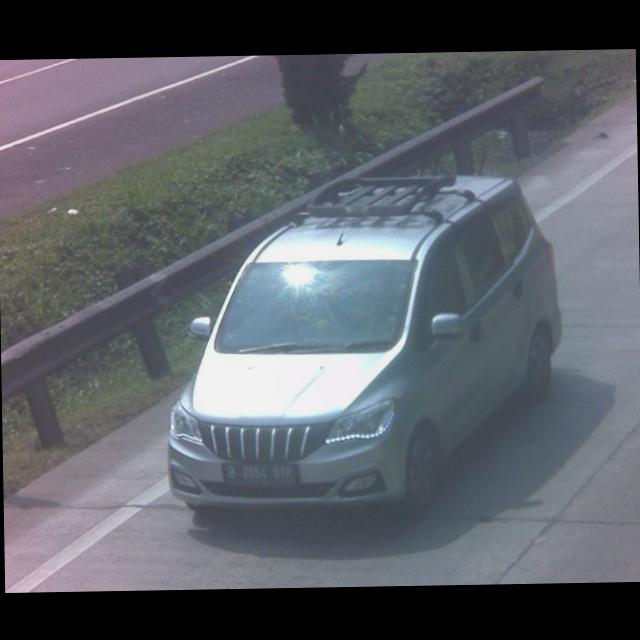plate: (222, 458, 298, 485)
